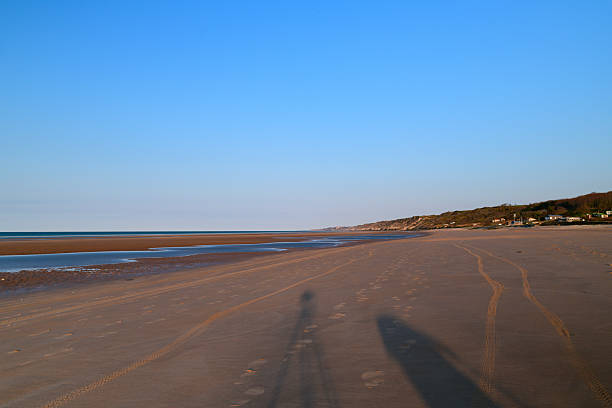vehicle_track: (44, 250, 372, 407), (0, 247, 351, 327), (466, 244, 611, 407), (454, 244, 503, 395)
